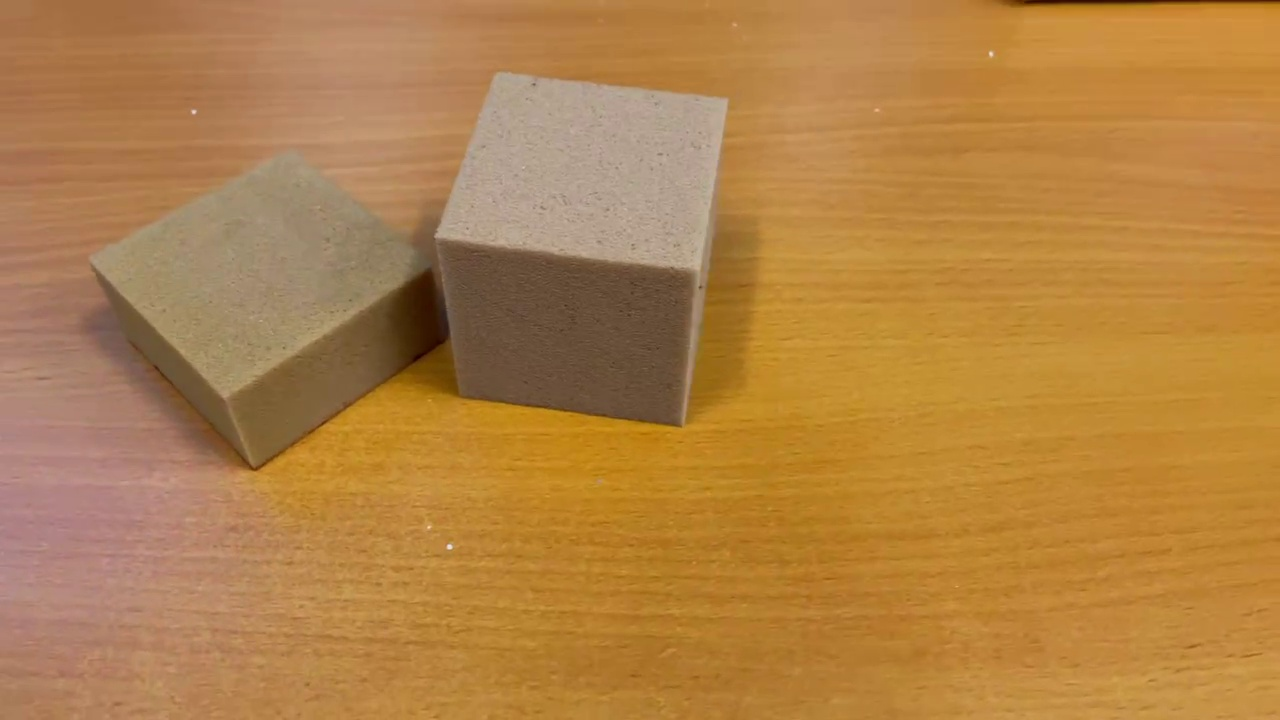Cube: (426, 64, 732, 437)
Cube_short: (80, 141, 453, 475)
